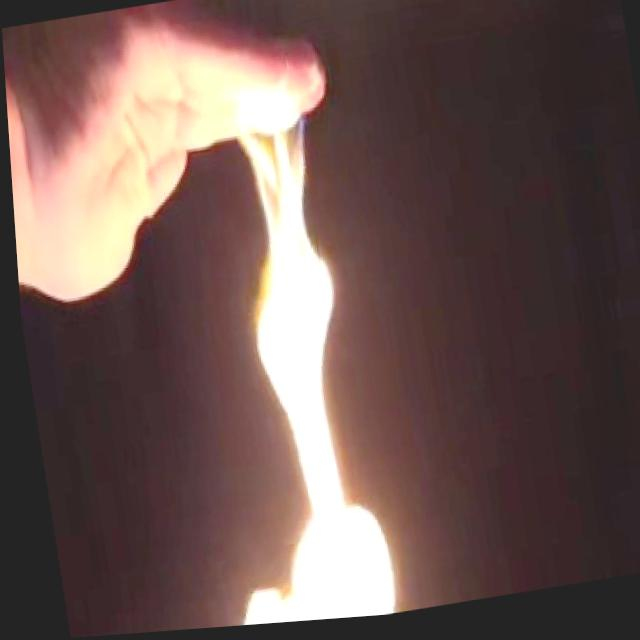Fire: (149, 95, 395, 632)
